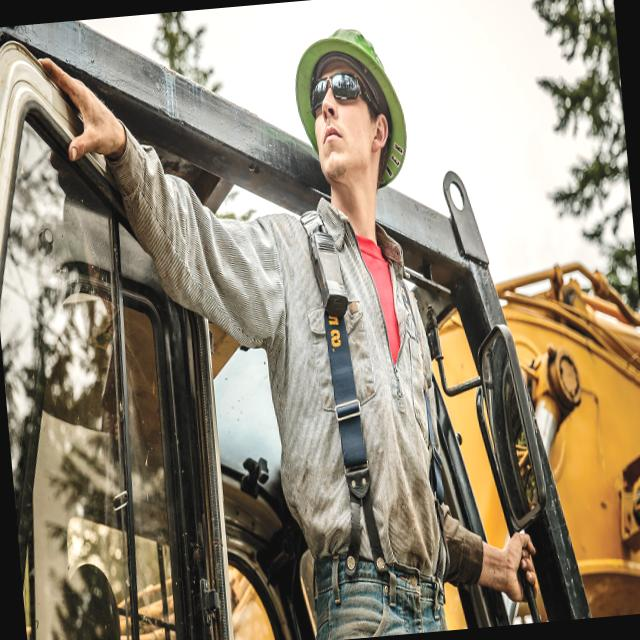goggles: (300, 64, 386, 122)
helmet: (278, 11, 419, 164)
no-vest: (264, 202, 446, 578)
